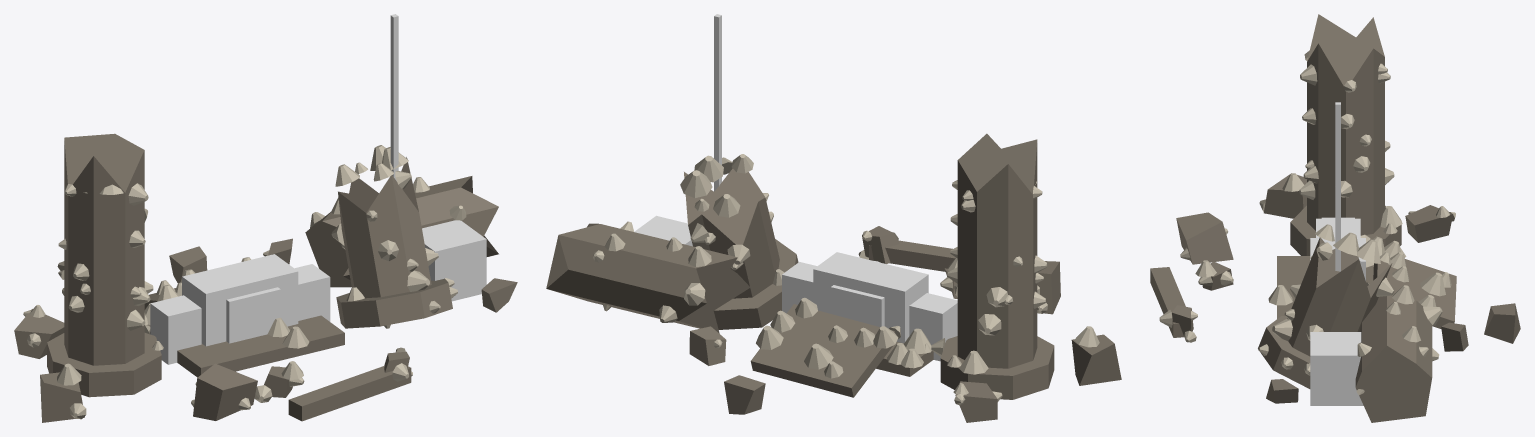
Rendered from BrokenColumn_LOD0_roblox.fbx.
3 renders of one model, left to right at view 1: azimuth 30°, elevation 25°; view 2: azimuth 150°, elevation 25°; view 3: azimuth 270°, elevation 25°, orthographic. The views are drawn at different scales.
Parts seen in each view (by area): view 1: ColumnStub_Tall_Shaft, ColumnStub_Short_Shaft, Ref_UpperTorso, Column_Fallen, Platform_Step1, 1_Stud_Cube, ColumnStub_Tall_Base, ColumnStub_Short_Base, Beam_Fallen, Ref_LeftUpperArm, Rubble_03, Ref_Head (+7 smaller); view 2: ColumnStub_Tall_Shaft, Column_Fallen, Platform_Step2, ColumnStub_Short_Shaft, Ref_UpperTorso, ColumnStub_Tall_Base, ColumnStub_Short_Base, Ref_LeftUpperArm, Rubble_08, Ref_Head, Beam_Fallen, Rubble_06 (+10 smaller); view 3: ColumnStub_Tall_Shaft, Column_Fallen, ColumnStub_Short_Shaft, 1_Stud_Cube, Rubble_03, Platform_Step2, ColumnStub_Short_Base, Beam_Fallen, Rubble_01, Platform_Step1, ColumnStub_Tall_Base, Rubble_08 (+11 smaller).
Part boxes in pixels (x1,y1,x2,y2): ColumnStub_Tall_Shaft: (64,133,144,365); ColumnStub_Short_Shaft: (338,157,431,298); Ref_UpperTorso: (182,254,298,346); Column_Fallen: (305,176,498,287); Platform_Step1: (147,315,344,377); 1_Stud_Cube: (422,220,486,301); ColumnStub_Tall_Base: (47,333,161,397); ColumnStub_Short_Base: (336,278,452,328); Beam_Fallen: (288,366,411,421); Ref_LeftUpperArm: (150,295,201,364); Rubble_03: (193,363,257,420); Ref_Head: (226,287,280,343); ColumnStub_Tall_Shaft: (957,133,1037,368); Column_Fallen: (546,223,750,333); Platform_Step2: (750,304,894,397); ColumnStub_Short_Shaft: (684,168,779,298); Ref_UpperTorso: (813,252,928,343); ColumnStub_Tall_Base: (940,336,1054,399); ColumnStub_Short_Base: (713,239,798,329); Ref_LeftUpperArm: (909,293,957,361); Rubble_08: (1071,334,1121,385); Ref_Head: (830,285,884,326); Beam_Fallen: (869,240,955,271); Rubble_06: (724,375,765,414); ColumnStub_Tall_Shaft: (1307,14,1384,235); Column_Fallen: (1355,284,1432,422); ColumnStub_Short_Shaft: (1287,237,1392,356); 1_Stud_Cube: (1310,332,1363,405); Rubble_03: (1176,212,1233,264); Platform_Step2: (1373,259,1456,328); ColumnStub_Short_Base: (1258,316,1310,388); Beam_Fallen: (1150,267,1192,337); Rubble_01: (1405,205,1452,242); Platform_Step1: (1277,256,1373,318); ColumnStub_Tall_Base: (1290,205,1401,255); Rubble_08: (1263,173,1306,218).
Size of the model in its own units: 9.85 by 6.66 by 5.72.
